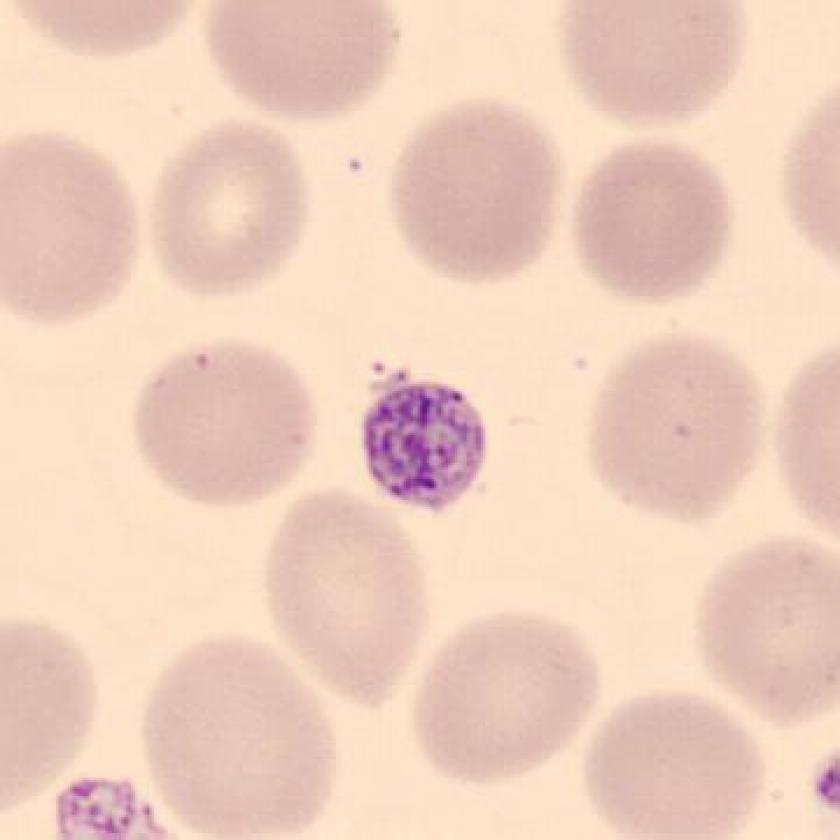platelets: (349, 369, 498, 522)
